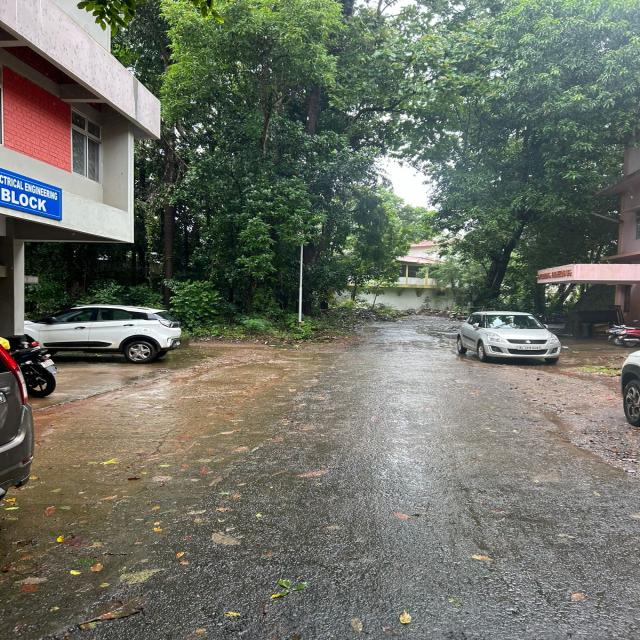car ahead at: (33, 303, 187, 362), (470, 307, 569, 368)
